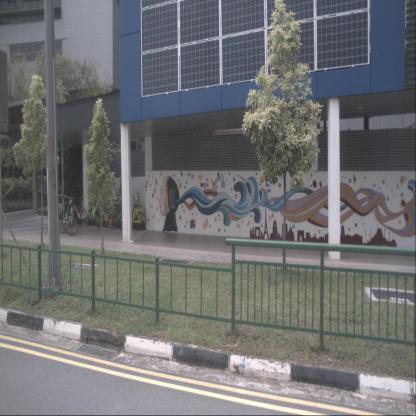vehicle-bicycle: (118, 199, 147, 231), (60, 198, 78, 236), (68, 196, 88, 227), (97, 202, 117, 230)
